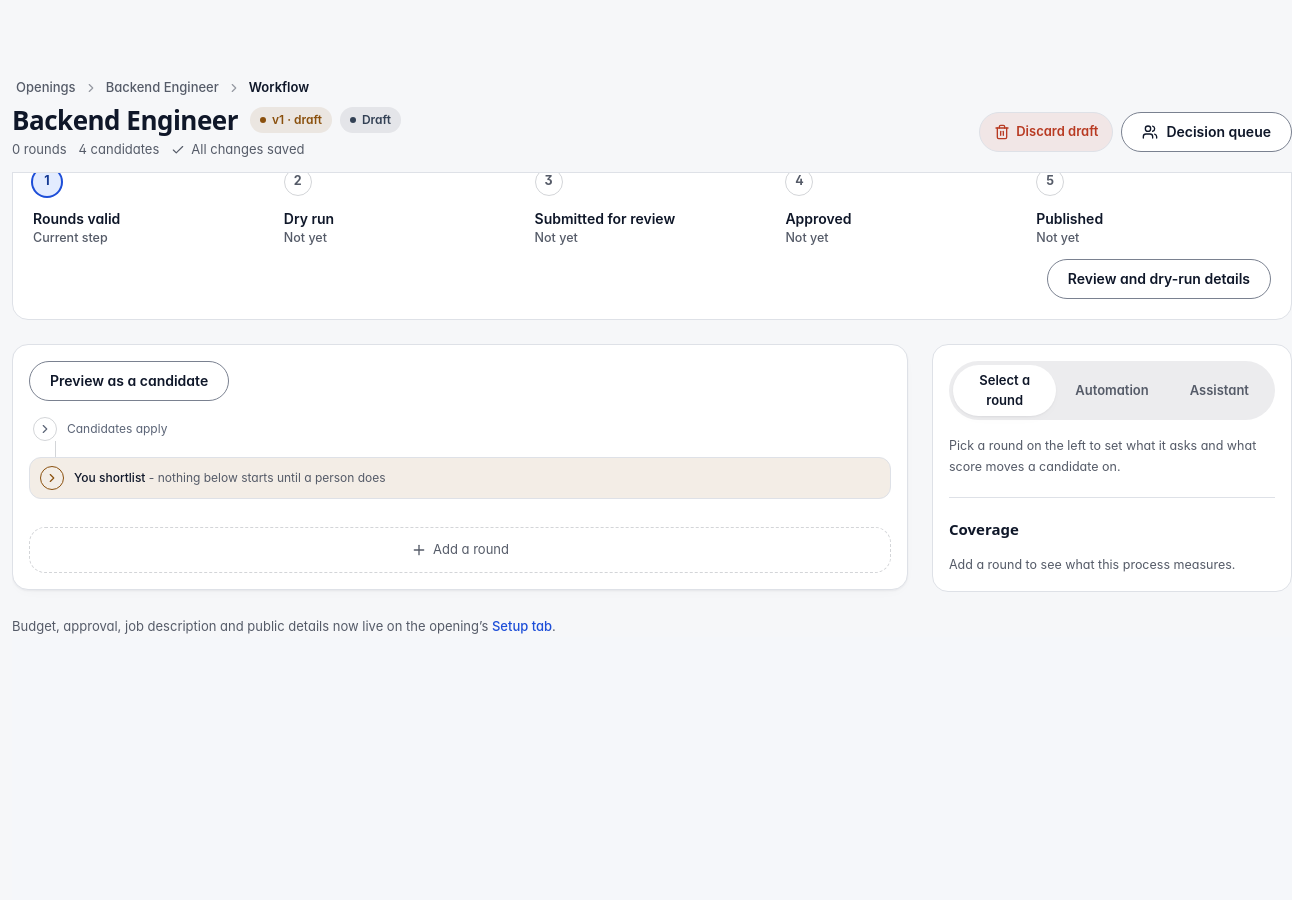
Test: WorkflowCopilot - citations (PH5-E1) › shows the evidence banner and the source strip when the reply read a record
This screenshot has width=1292, height=900.
Click the tab "Assistant" at point(1219, 391), box [1168,365,1271,416]
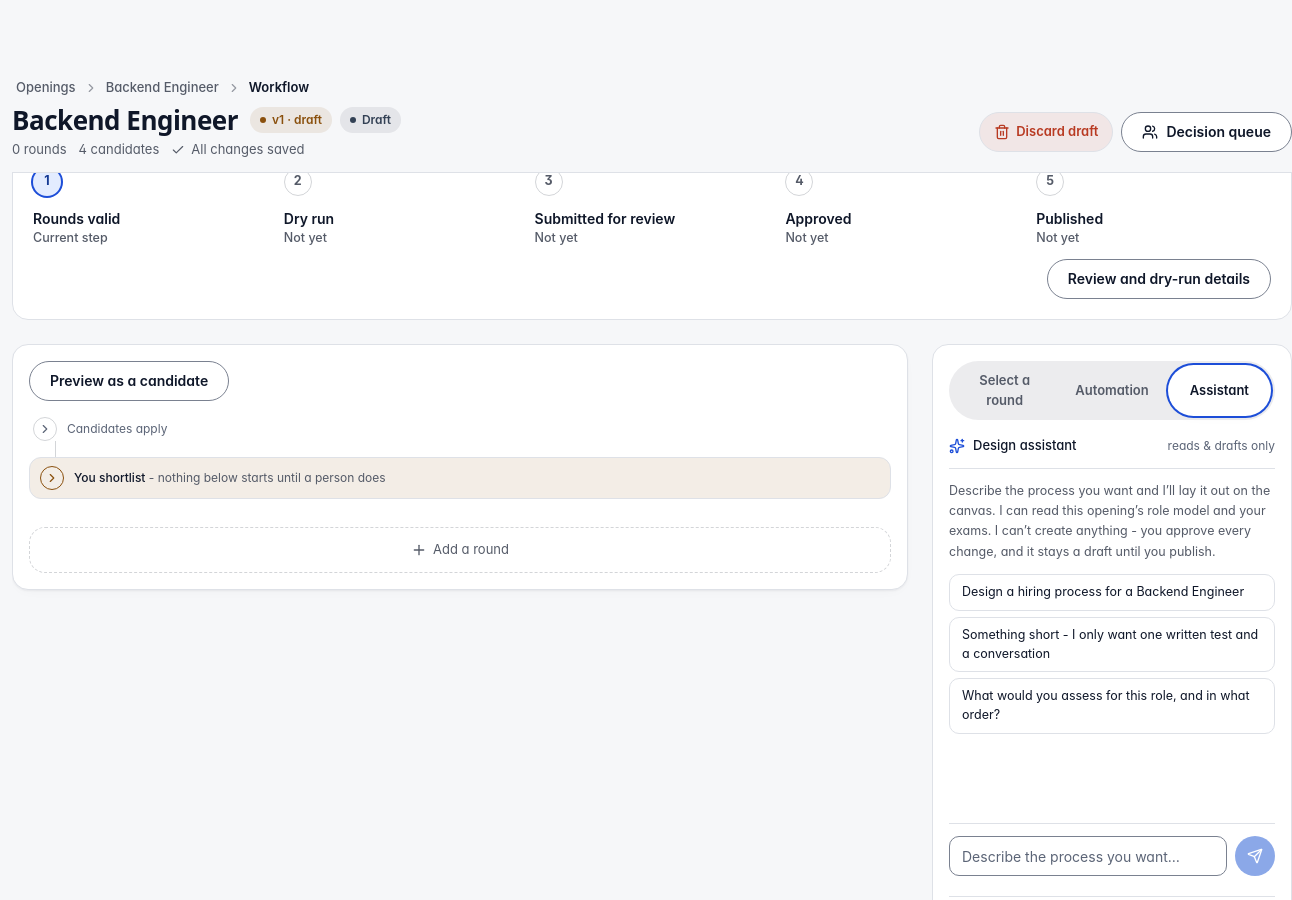
Type "what does the role model weigh most?" into the field named "Ask the design assistant" at point(1088, 856), box [949,836,1227,876]
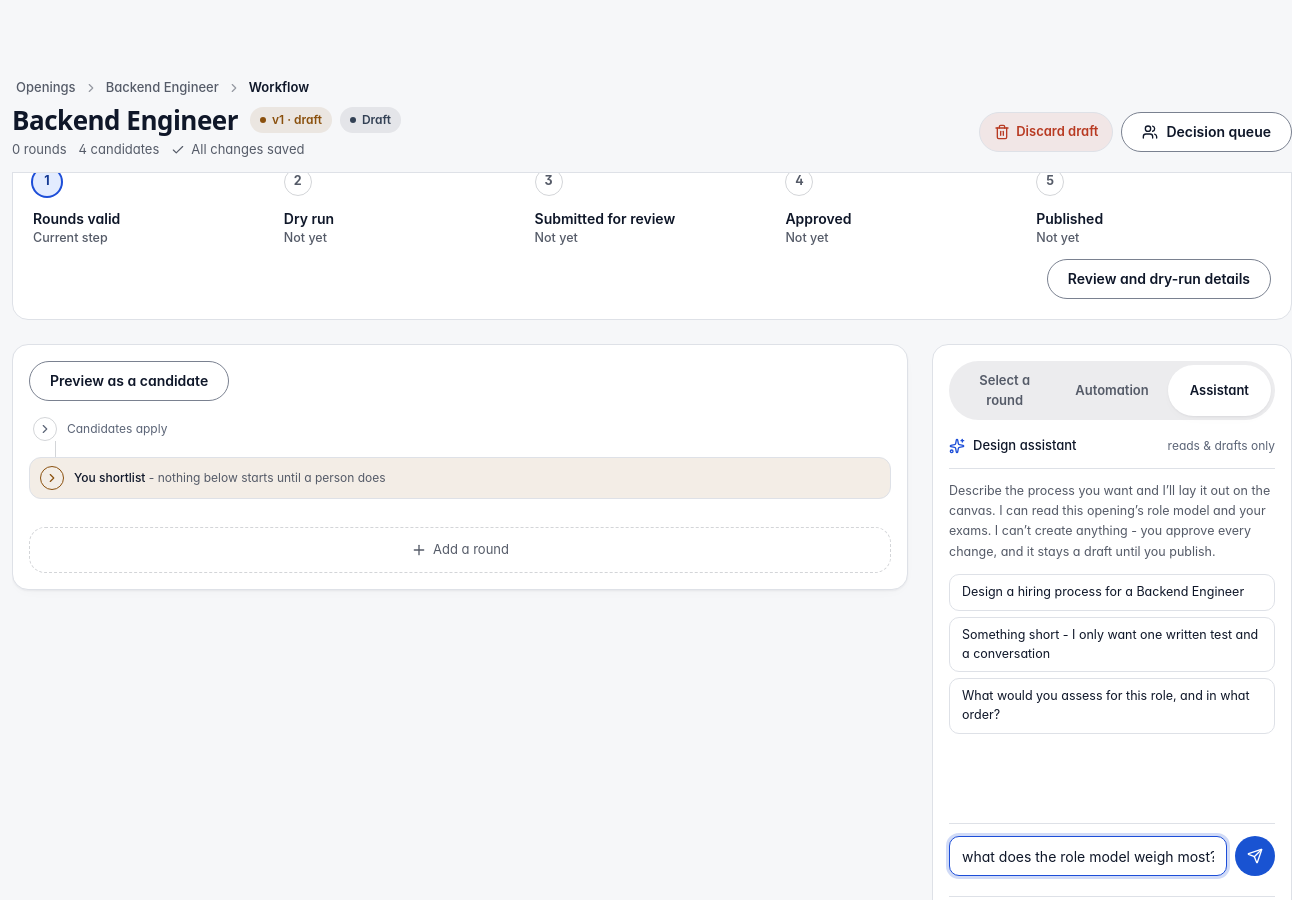
Click the button named "Send" at point(1255, 856), box [1235,836,1275,876]
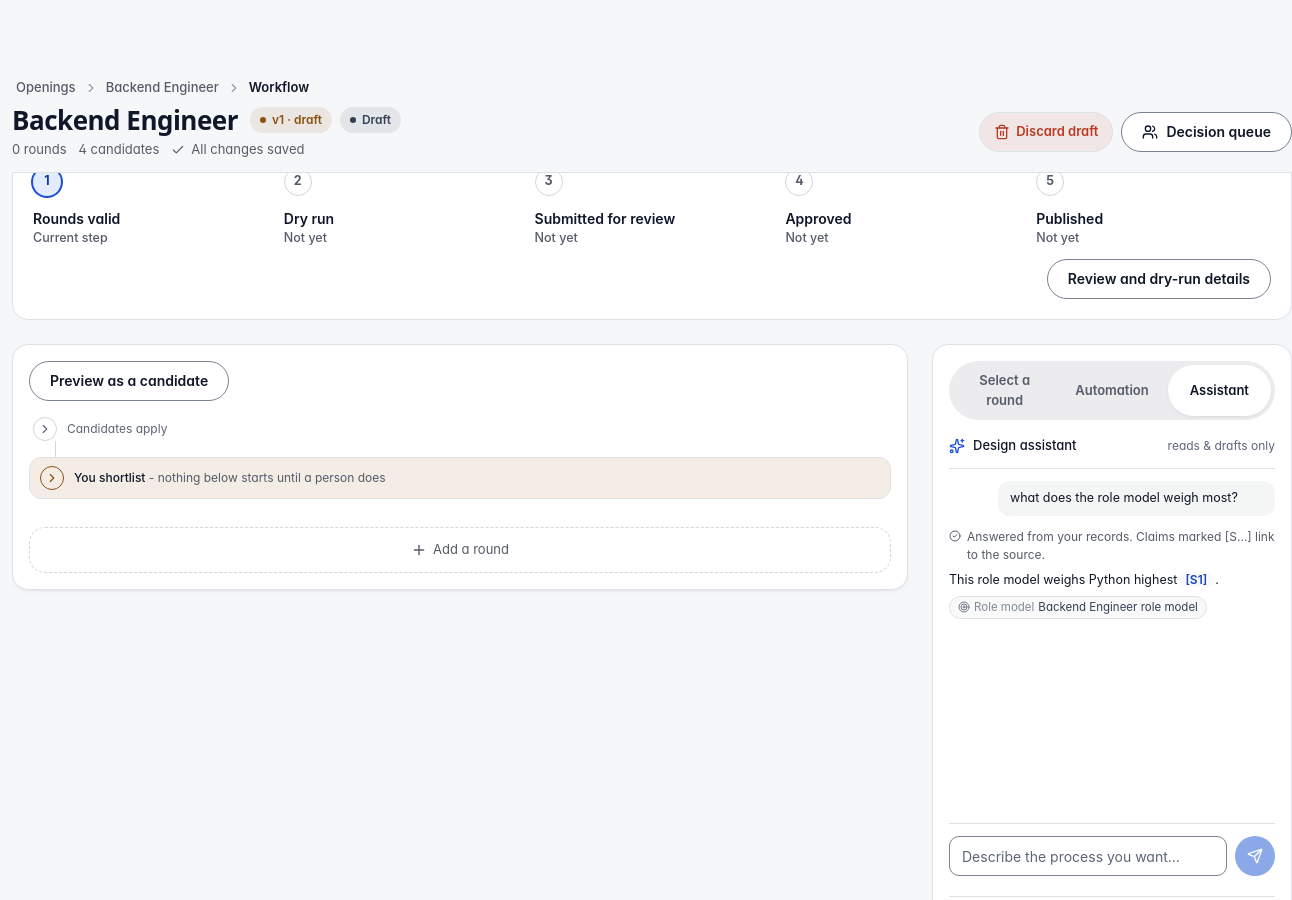
Result: the text "Answered from your records" is shown at [967,528,1274,562]
Result: the text "Backend Engineer role model" is shown at [1038,599,1198,616]
